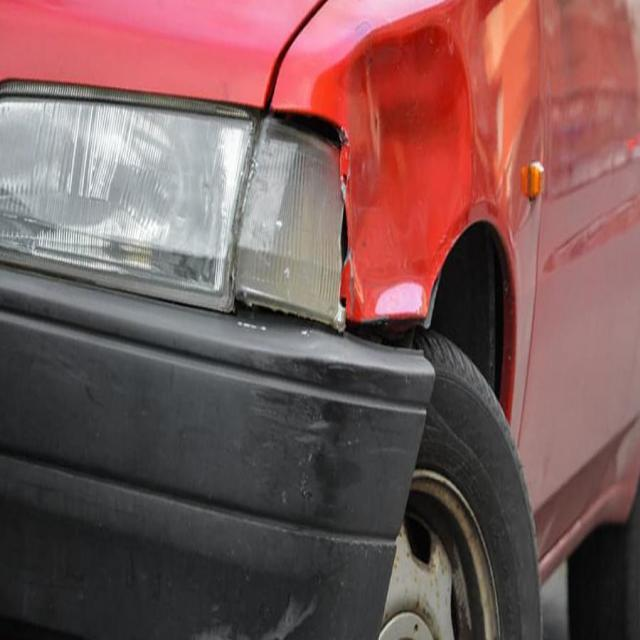dent: (303, 14, 485, 353)
